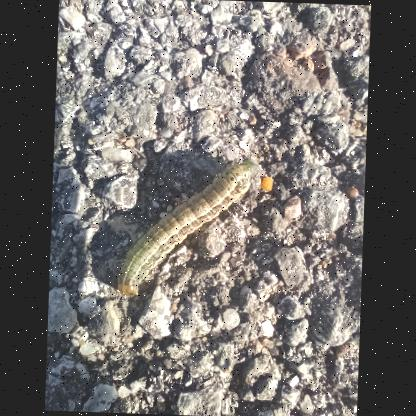Fall Armyworm Larvae: (113, 152, 265, 308)
